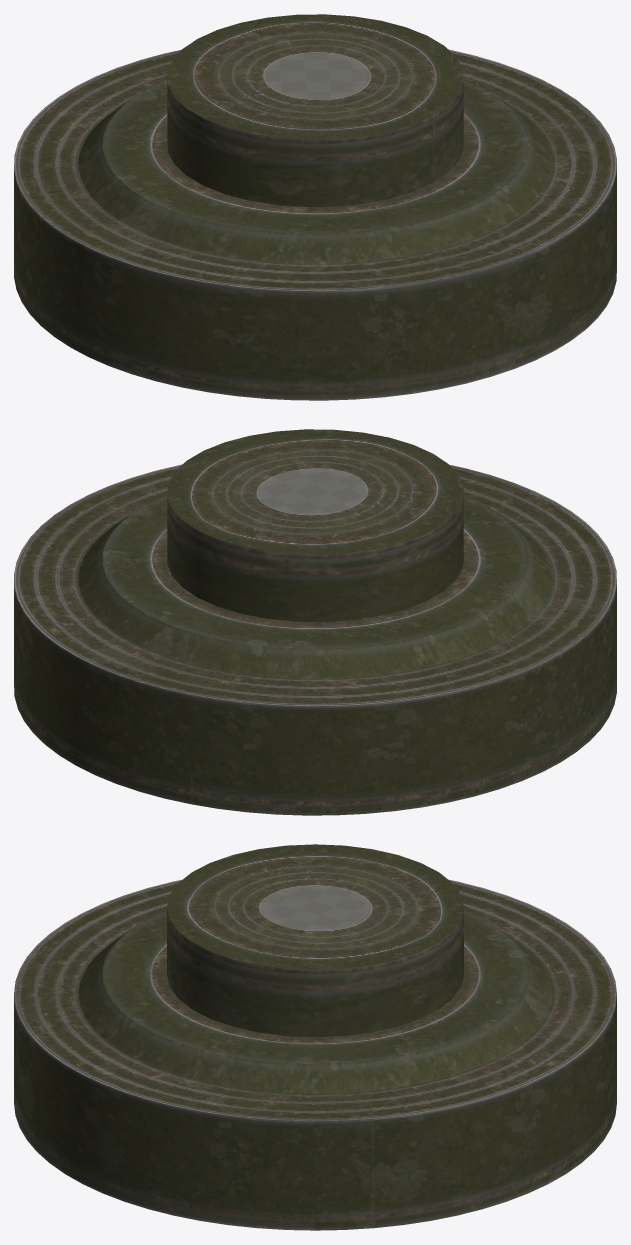
3 views of the same model, one above another, from view 1: azimuth 30°, elevation 25°; view 2: azimuth 150°, elevation 25°; view 3: azimuth 270°, elevation 25° (orthographic).
Visible parts, largest first — view 1: lowpoly, Cylinder; view 2: lowpoly, Cylinder; view 3: lowpoly, Cylinder.
Part boxes in pixels (x1,y1,x2,y2): lowpoly: (14,49,616,400); Cylinder: (167,14,463,206); lowpoly: (14,464,616,815); Cylinder: (167,429,463,621); lowpoly: (14,880,616,1230); Cylinder: (167,844,463,1037).
Size of the model in its own units: 1.56 by 0.5582 by 1.56.
Materials: 1 (1 with a texture image).
